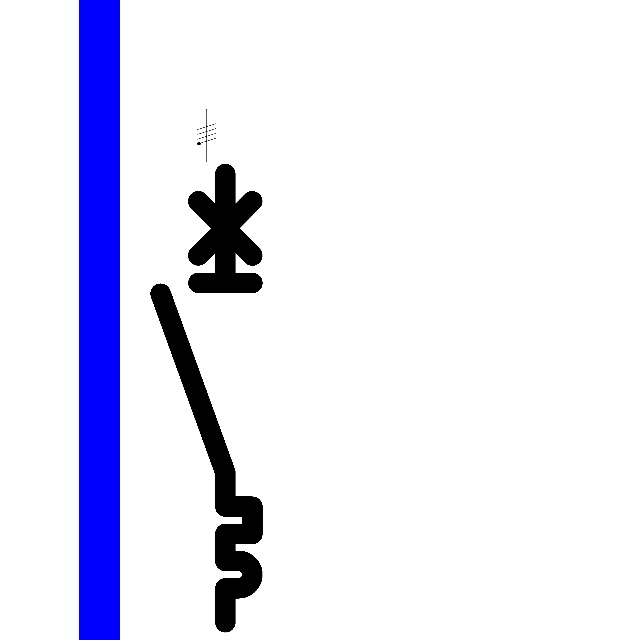interruptor_termomagnetico: (149, 162, 264, 634)
